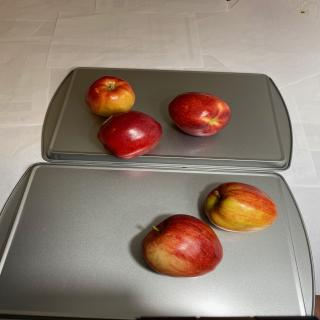Apple: (141, 214, 223, 278), (205, 182, 278, 232), (96, 110, 162, 159), (168, 92, 231, 136), (85, 76, 135, 117)
